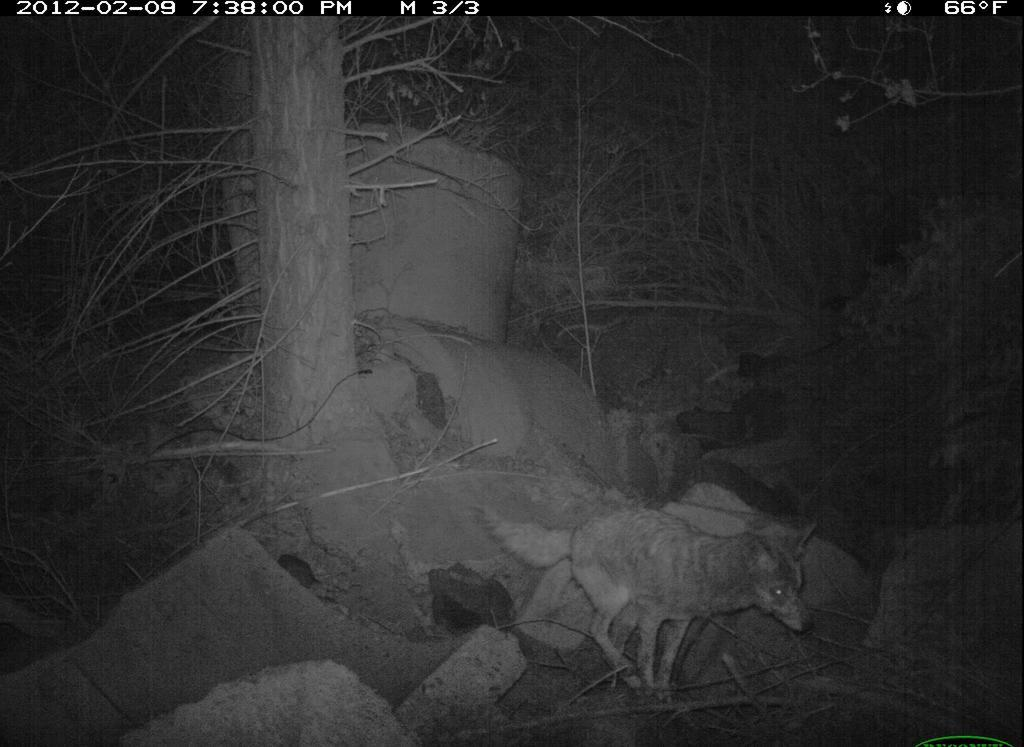coyote: (469, 492, 836, 703)
